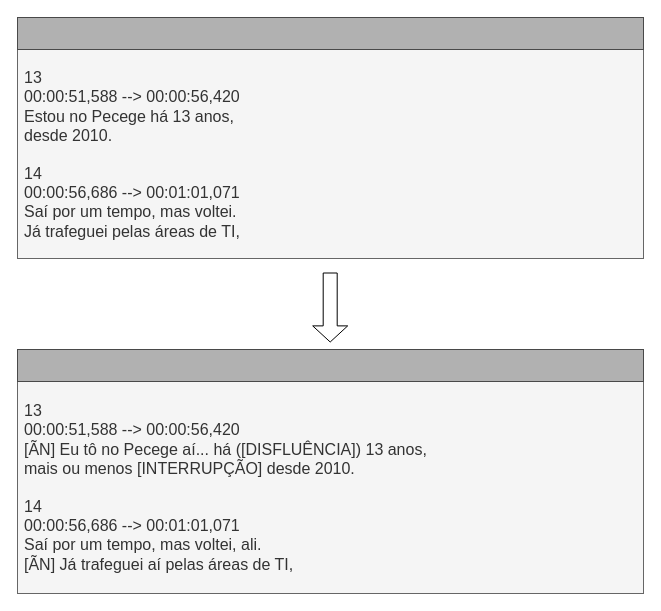
The diagram is 661 pixels wide and 611 high, and some of its shapes have lost their labels. The shapes that lost their labels are listed below. From the top down, each one's centre as x and y in pixels, then its label:
[330,33]: SRT Original
[330,365]: SRT "Integral"
